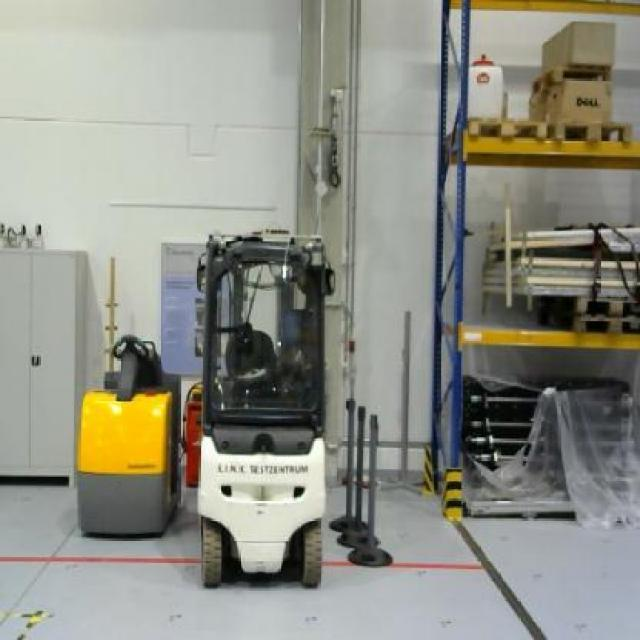box: (530, 77, 612, 125), (538, 20, 618, 69)
